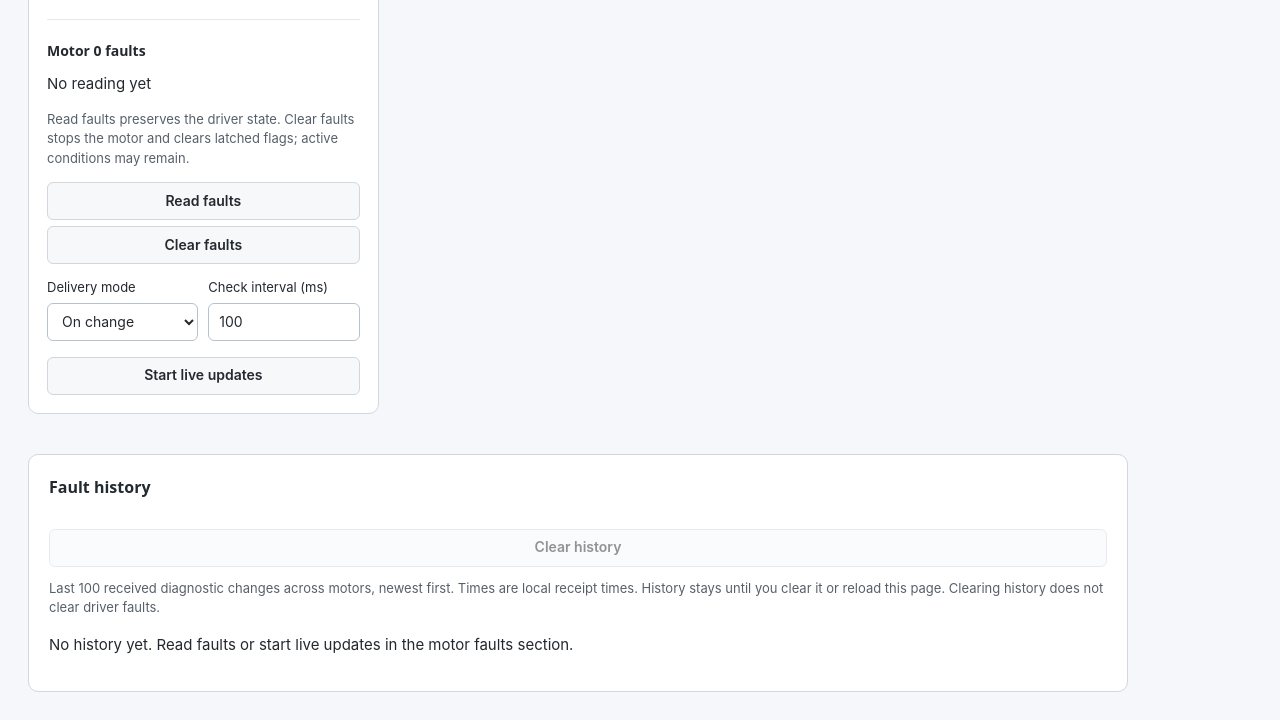
Test: records thermal warnings and recovery, but not duplicate samples or timestamp changes
(page scrolled)
Expected: the text "No history yet" is shown, [49, 634, 573, 654]
Expected: the button "Clear history" is disabled, [49, 528, 1107, 566]
Click the button "Start live updates": (203, 376) [47, 356, 360, 394]
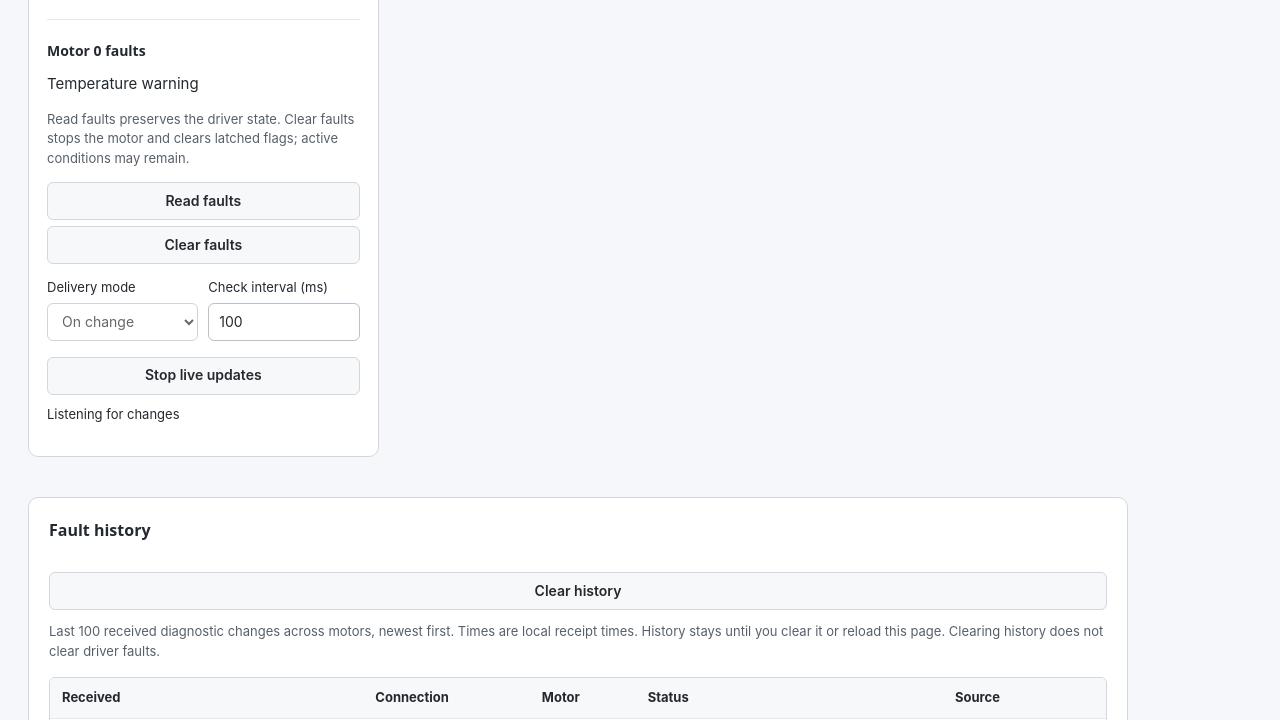
Click the button "Read faults": (203, 201) [47, 182, 360, 220]
(page scrolled)
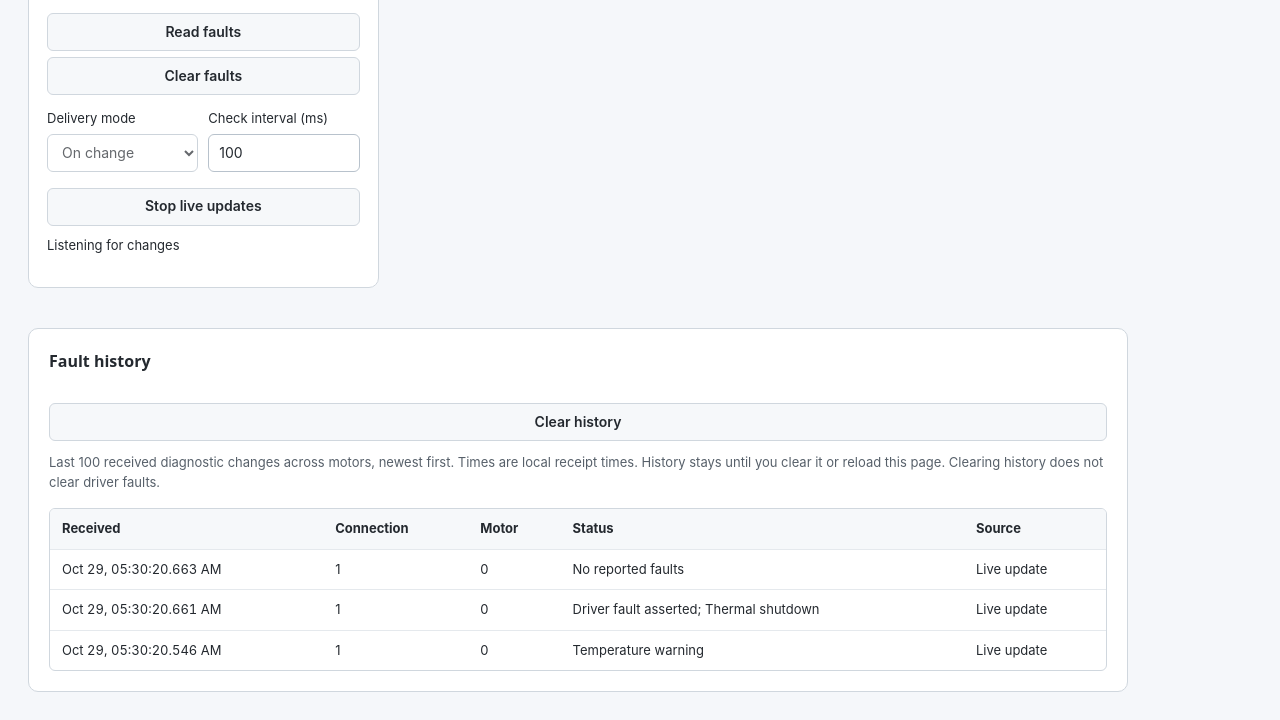
Expected: the row "Oct 29, 05:30:20.546 AM 1 0 Temperature warning Live update" is shown, [50, 630, 1106, 670]
Expected: the row "Oct 29, 05:30:20.663 AM 1 0 No reported faults Live update" is shown, [50, 549, 1106, 590]
Expected: the row that starts with "Oct 29, 05:30:20.661 AM" shows "Thermal shutdown", [573, 601, 820, 617]
